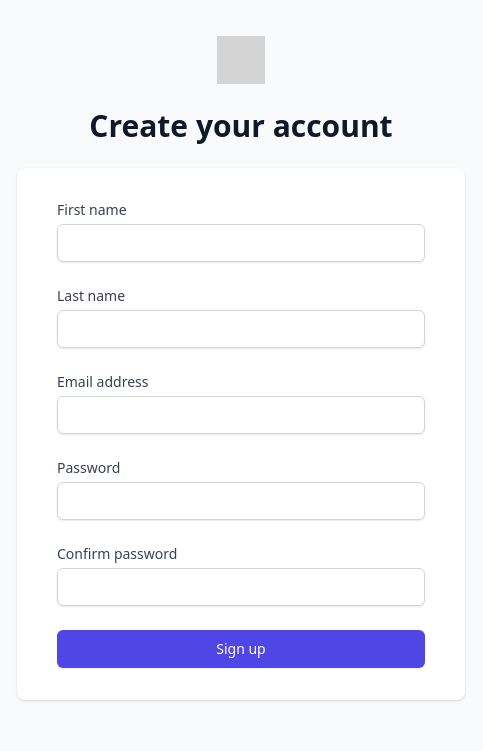
error states › if user submits form with password less than 6 characters in length
Type "pass" into the password field labelled "Password" at point(241, 501), box [57, 482, 425, 520]
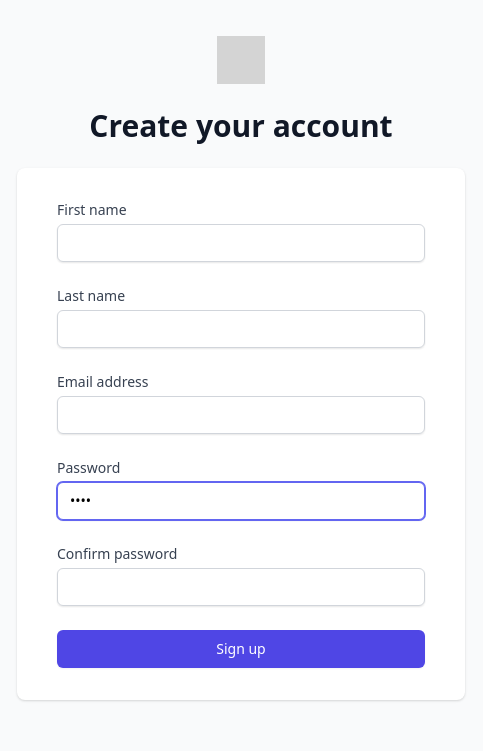
Click the button "Sign up" at point(241, 649), box [57, 630, 425, 668]
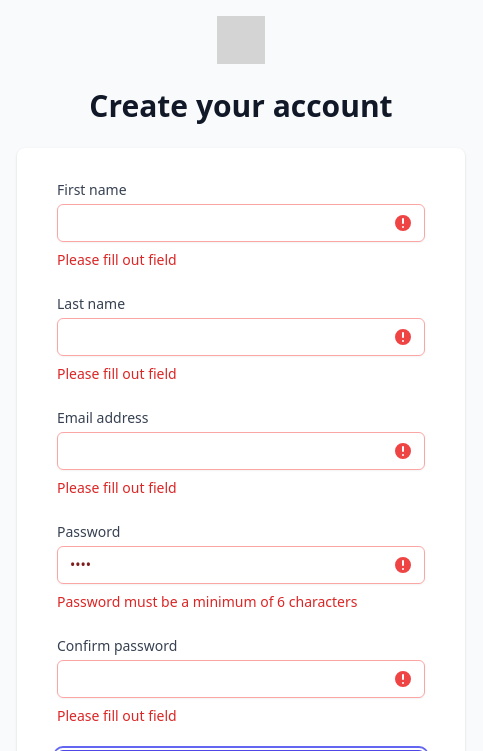
Expected: the text "Password must be a minimum of 6 characters" is shown, [57, 592, 358, 611]
